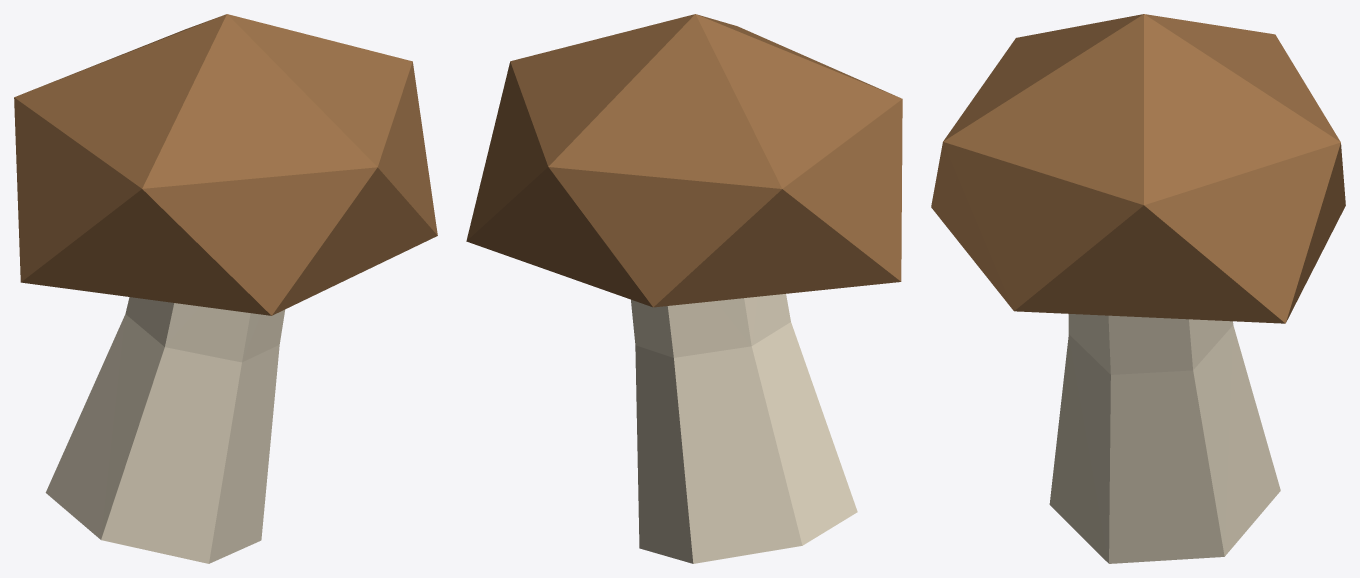
File: HS_LP_Mushroom_Brown_02.fbx
The picture shows the model from 3 angles, left to right: view 1: azimuth 30°, elevation 25°; view 2: azimuth 150°, elevation 25°; view 3: azimuth 270°, elevation 25°; orthographic projection. The views are drawn at different scales.
Visible parts, largest first — view 1: HS_LP_Mushroom_Brown_02; view 2: HS_LP_Mushroom_Brown_02; view 3: HS_LP_Mushroom_Brown_02.
Part boxes in pixels (x1=…): HS_LP_Mushroom_Brown_02: x1=14, y1=14, x2=437, y2=563; HS_LP_Mushroom_Brown_02: x1=466, y1=14, x2=902, y2=563; HS_LP_Mushroom_Brown_02: x1=931, y1=14, x2=1345, y2=563.
Bounding box in the file's own units: 17.83 × 22.53 × 15.66.
